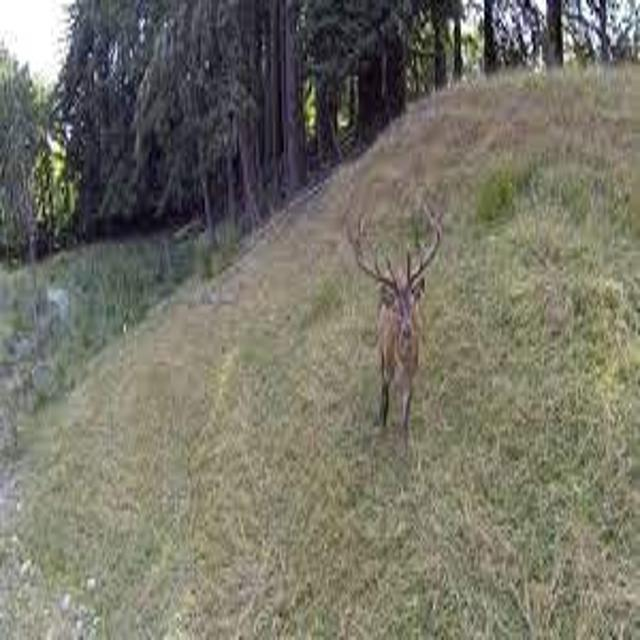Deer: (348, 234, 461, 445)
